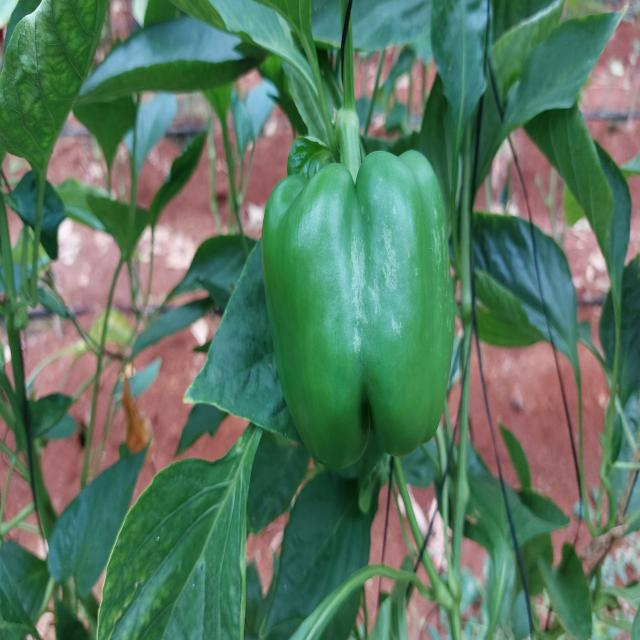Green--Not-ready-to-harvest: (258, 154, 459, 473), (273, 167, 454, 465)
